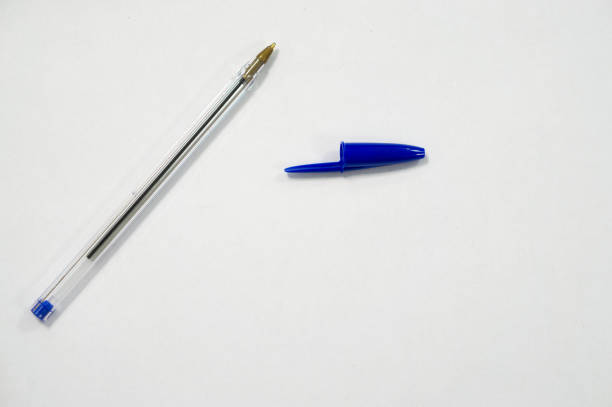pen: (17, 34, 428, 327)
